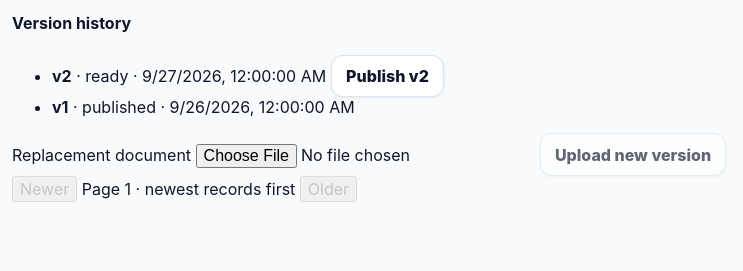
Test: publication conflict is displayed without silent retry
Click the button "Publish v2" at (387, 76), box left=331, top=54, right=444, bottom=97
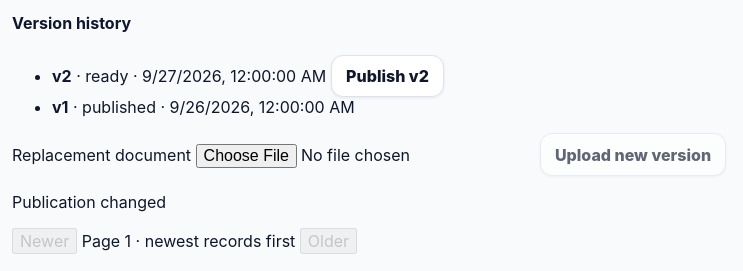
Result: the text "Publication changed" is shown at left=12, top=192, right=166, bottom=212
